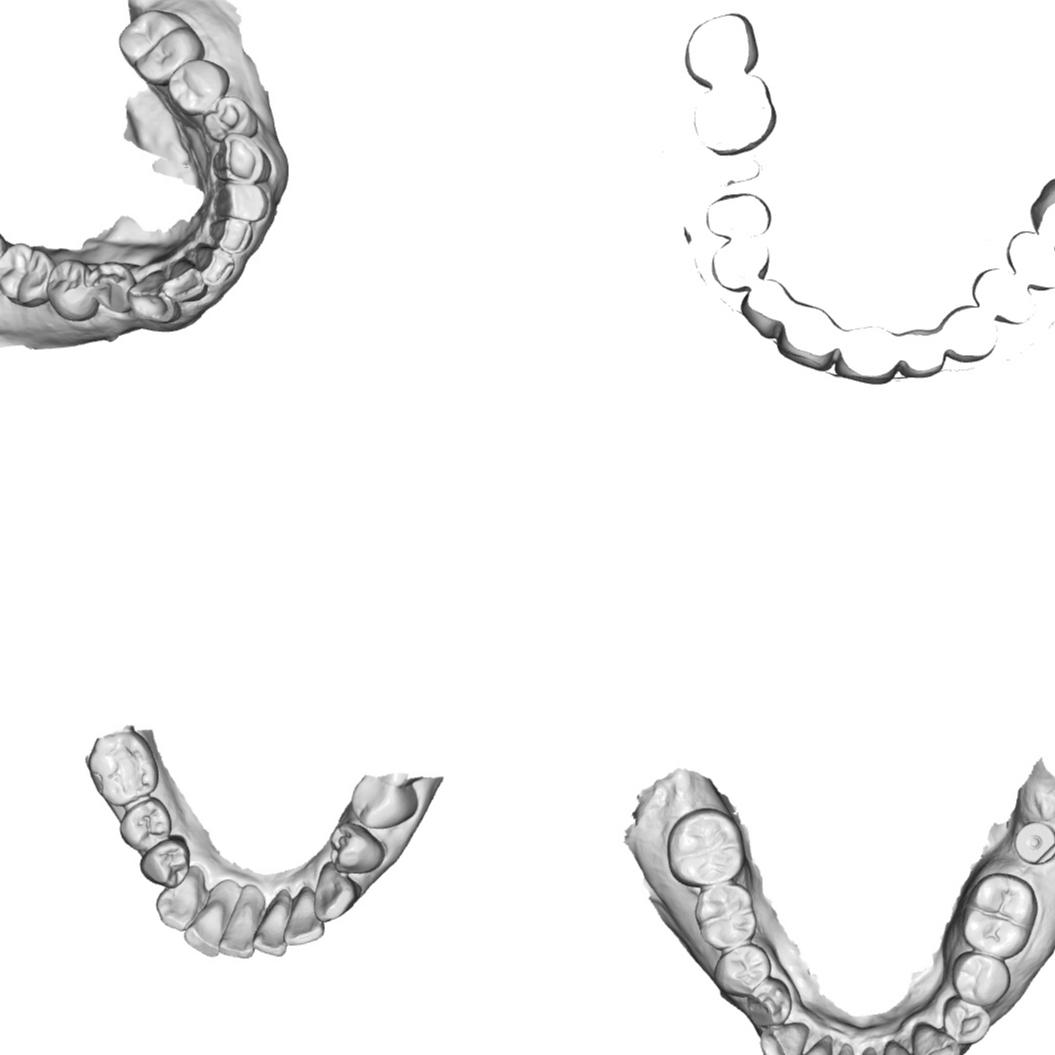canine: (154, 864, 206, 932), (310, 860, 358, 922), (211, 135, 269, 182), (127, 270, 177, 323), (757, 1023, 813, 1055), (912, 1022, 960, 1055)
implant: (1014, 820, 1055, 865)
incisor: (184, 888, 230, 958), (252, 887, 292, 957), (281, 884, 325, 946), (218, 898, 256, 960), (215, 181, 270, 222), (207, 218, 257, 258), (195, 244, 237, 288), (166, 260, 204, 301), (881, 1038, 923, 1055), (789, 1041, 832, 1055)
molar: (961, 872, 1041, 960), (114, 11, 203, 85), (665, 807, 745, 888), (87, 730, 159, 806), (694, 882, 757, 949), (0, 242, 54, 306)
premolar: (350, 776, 418, 830), (711, 943, 773, 997), (950, 952, 1009, 1007), (168, 59, 225, 114), (118, 796, 172, 853), (328, 822, 386, 874), (47, 257, 95, 319), (138, 835, 190, 889), (941, 997, 989, 1045), (204, 94, 255, 139), (745, 979, 791, 1028), (94, 262, 131, 315)
